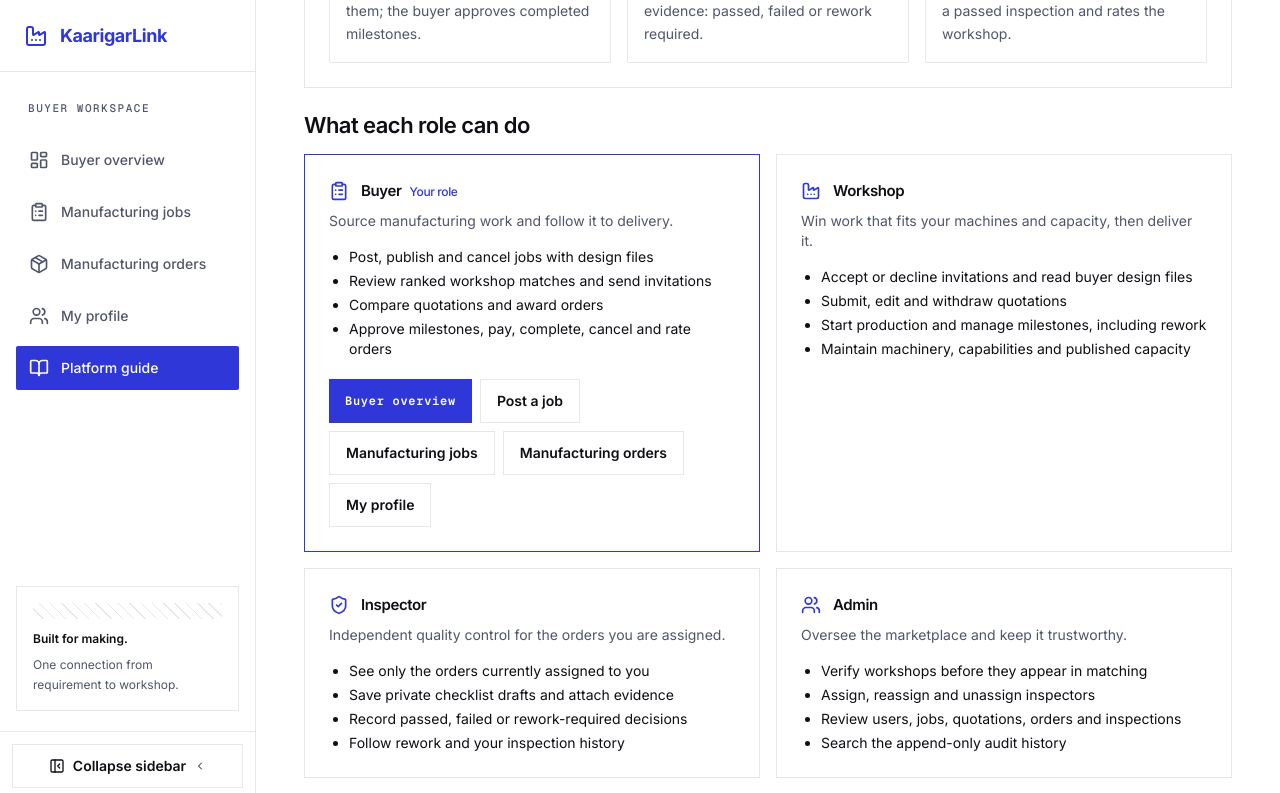
it: a role shortcut opens that role's page
The width and height of the screenshot is (1280, 793).
(page scrolled)
Click the link "Post a job" at coordinates (530, 401), box 480,379 -> 580,423
(page scrolled)
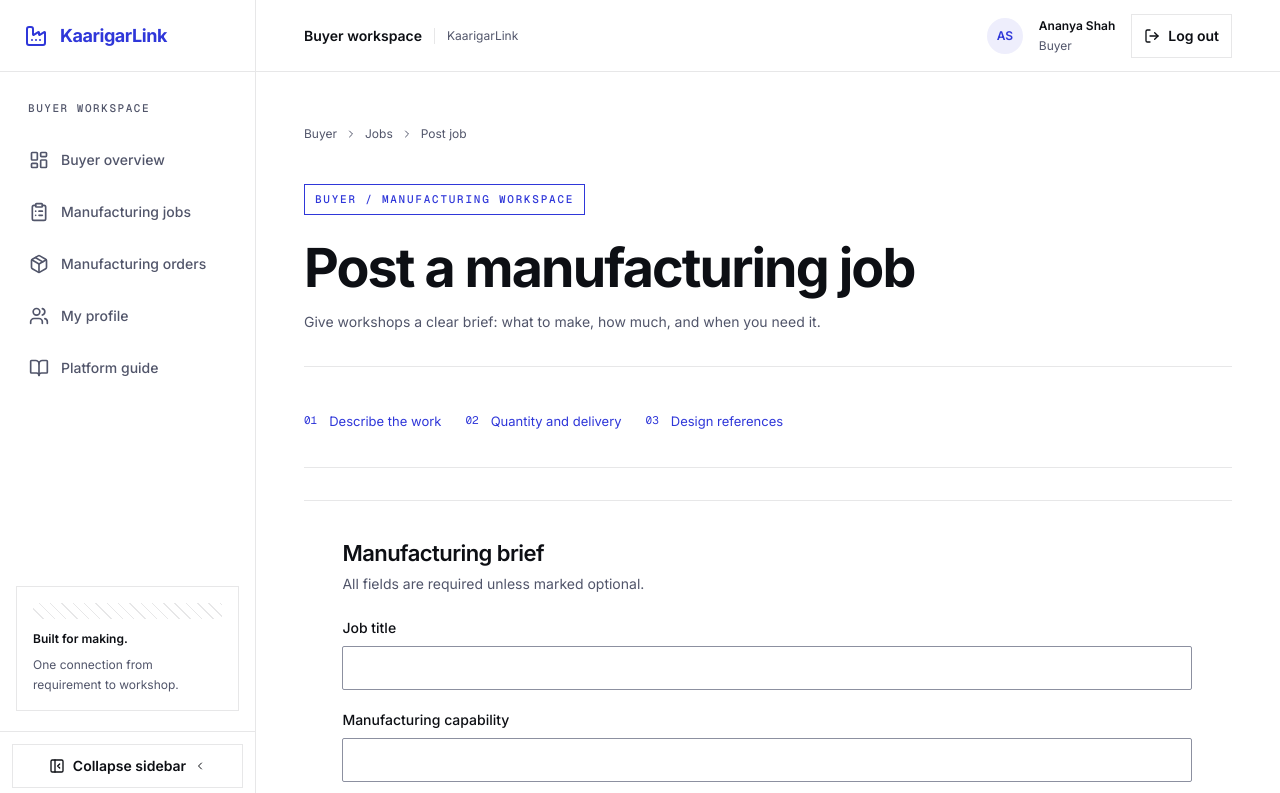
Expected: the heading "Post a manufacturing job" is shown, 304,238 -> 914,296
